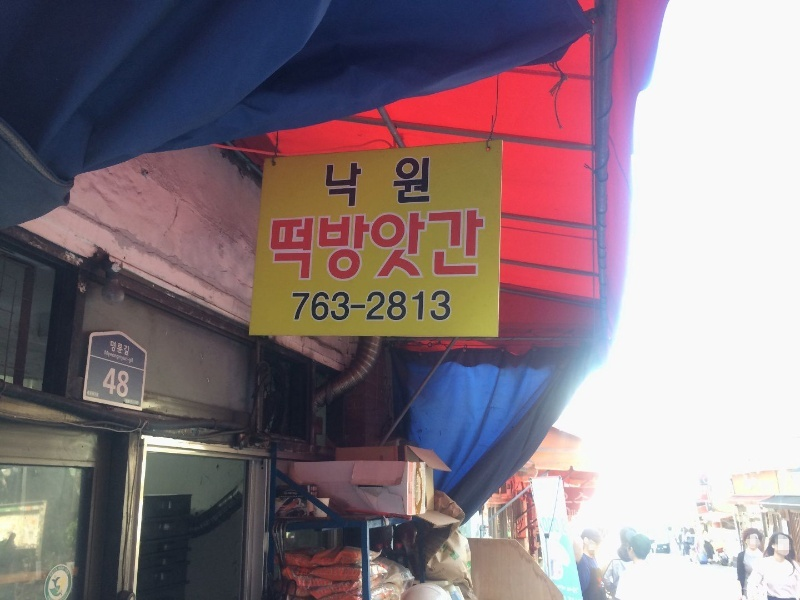text: (273, 208, 288, 283), (289, 208, 304, 283), (305, 208, 320, 283), (321, 208, 336, 283), (337, 208, 352, 283), (353, 208, 368, 283), (369, 208, 384, 283), (385, 208, 400, 283), (401, 208, 416, 283), (417, 208, 432, 283), (433, 208, 448, 283), (449, 208, 464, 283), (465, 208, 480, 283), (337, 155, 352, 211), (353, 155, 368, 211), (369, 155, 384, 211), (385, 155, 400, 211), (401, 155, 416, 211), (417, 155, 431, 211), (324, 155, 336, 211), (113, 365, 128, 401), (369, 290, 384, 324), (385, 290, 400, 324), (401, 290, 416, 324), (417, 290, 432, 324), (433, 290, 448, 324), (305, 291, 320, 323), (321, 291, 336, 323), (337, 291, 350, 323), (292, 291, 304, 323), (481, 208, 485, 283), (113, 340, 128, 357), (269, 208, 272, 283), (113, 349, 128, 364), (108, 365, 112, 401), (104, 349, 112, 364), (353, 304, 368, 311), (129, 349, 134, 364), (129, 365, 131, 401), (449, 290, 451, 324), (129, 340, 131, 357), (367, 290, 368, 324), (111, 340, 112, 357)
